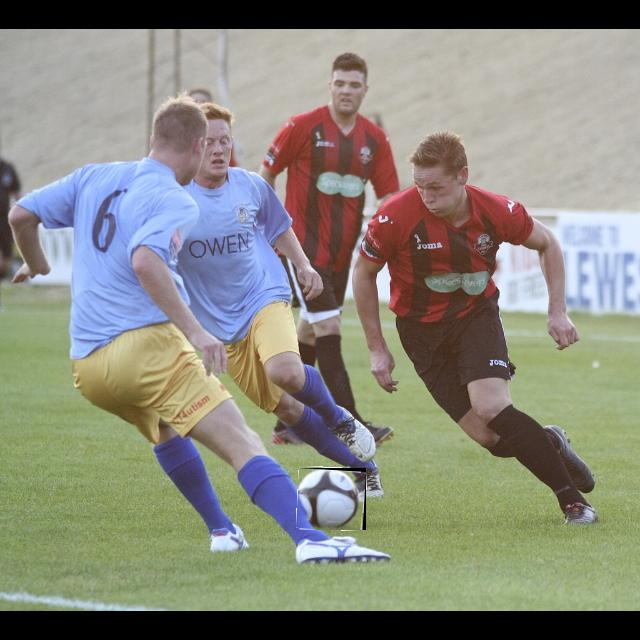Football: (298, 468, 366, 530)
